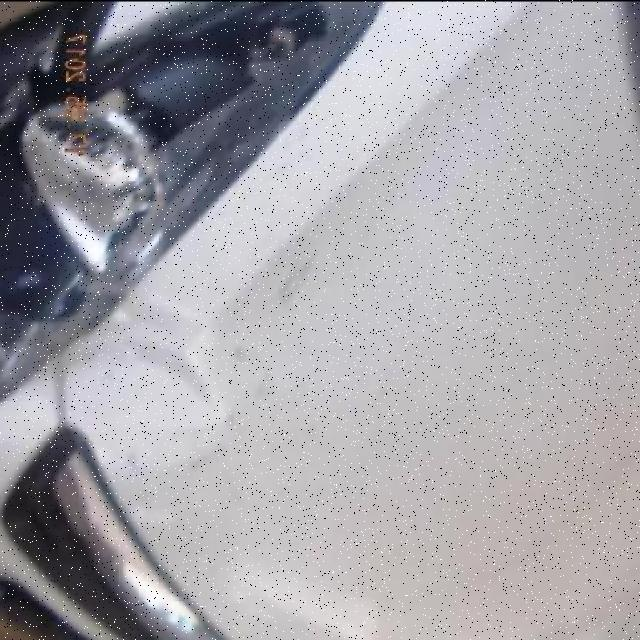damage: (61, 286, 225, 440)
